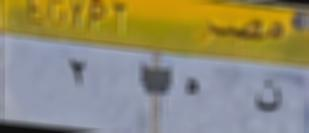2: (59, 56, 95, 92)
haa: (179, 72, 207, 111)
noon: (249, 76, 289, 120)
